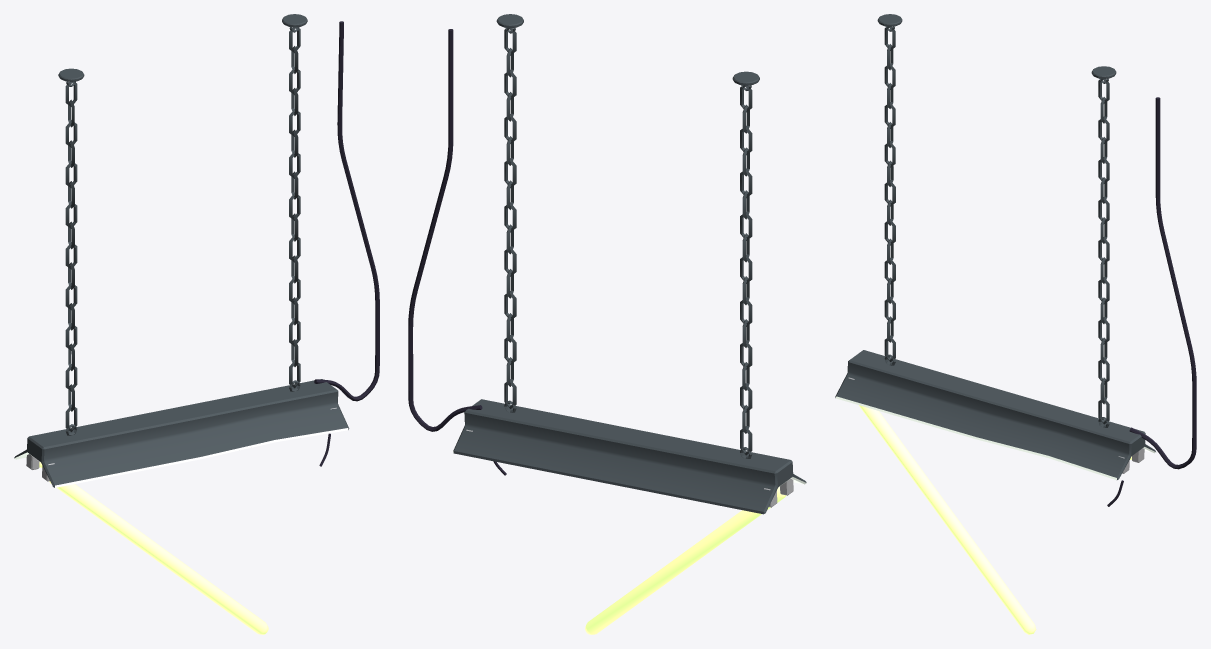
Rendered from fluoro_light_broken.glb.
3 renders of one model, left to right at view 1: azimuth 30°, elevation 25°; view 2: azimuth 150°, elevation 25°; view 3: azimuth 330°, elevation 25°, orthographic. The views are drawn at different scales.
Visible parts, largest first — view 1: Fixture, Tubes; view 2: Fixture, Tubes; view 3: Fixture, Tubes.
Boxes of the visible parts, x1,y1,x2,y2 form: Fixture: (14, 14, 379, 487); Tubes: (39, 462, 268, 634); Fixture: (408, 14, 806, 514); Tubes: (585, 486, 786, 634); Fixture: (835, 14, 1196, 506); Tubes: (859, 405, 1131, 634).
Size of the model in its own units: 1.73 by 2.76 by 0.3914.
